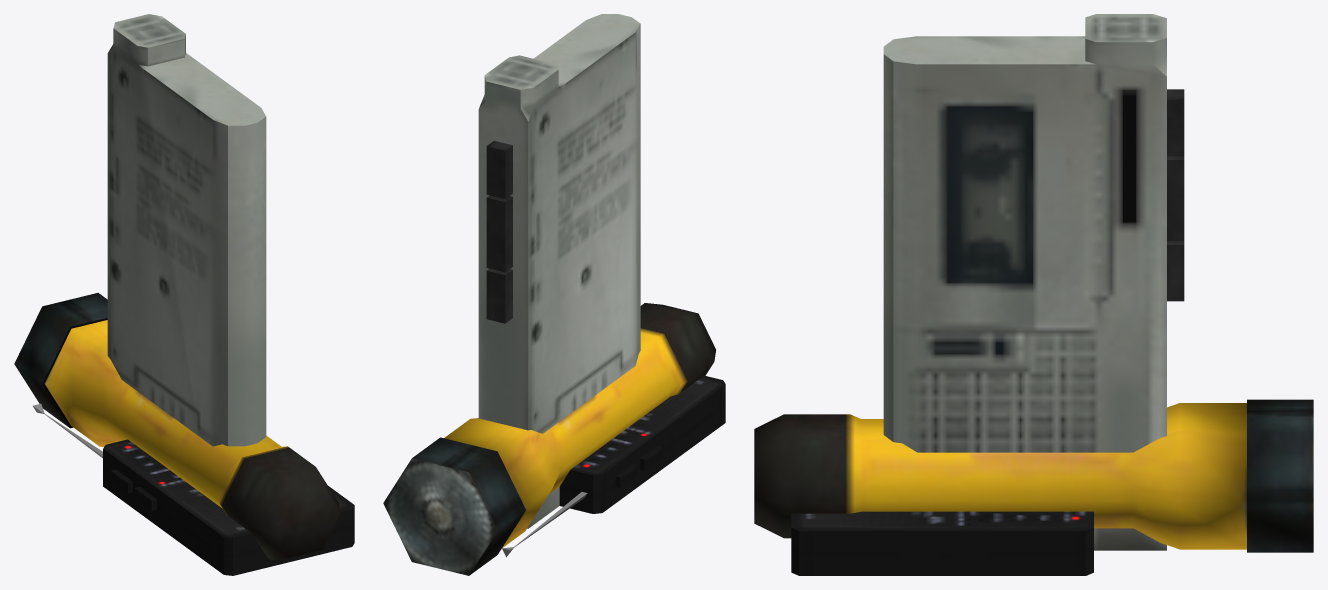
File: explore.glb
3 views of the same model, side by side, from view 1: azimuth 30°, elevation 25°; view 2: azimuth 150°, elevation 25°; view 3: azimuth 270°, elevation 25° (orthographic). The views are drawn at different scales.
Parts seen in each view (by area): view 1: recorder, flashlight, spiritbox; view 2: recorder, flashlight, spiritbox; view 3: recorder, flashlight, spiritbox.
Boxes of the visible parts, <box> form: recorder: <box>107,14,266,446</box>; flashlight: <box>14,293,340,560</box>; spiritbox: <box>33,403,354,575</box>; recorder: <box>478,14,640,528</box>; flashlight: <box>383,303,715,575</box>; spiritbox: <box>502,375,725,557</box>; recorder: <box>883,14,1184,550</box>; flashlight: <box>754,399,1313,552</box>; spiritbox: <box>791,511,1093,575</box>.
Size of the model in its own units: 0.0823 by 0.2477 by 0.2469.
3 materials, 3 textured.
